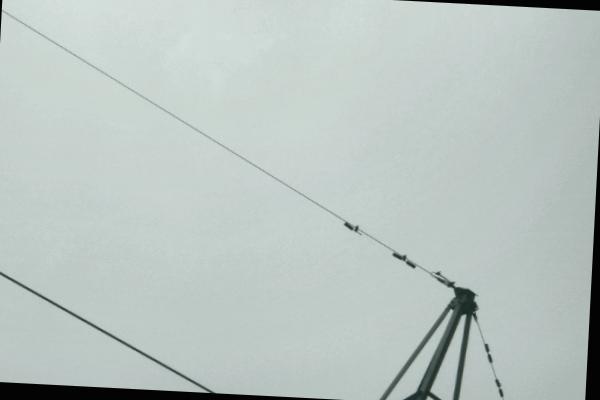damper: (391, 252, 417, 269)
damper_defect: (342, 220, 363, 237)
